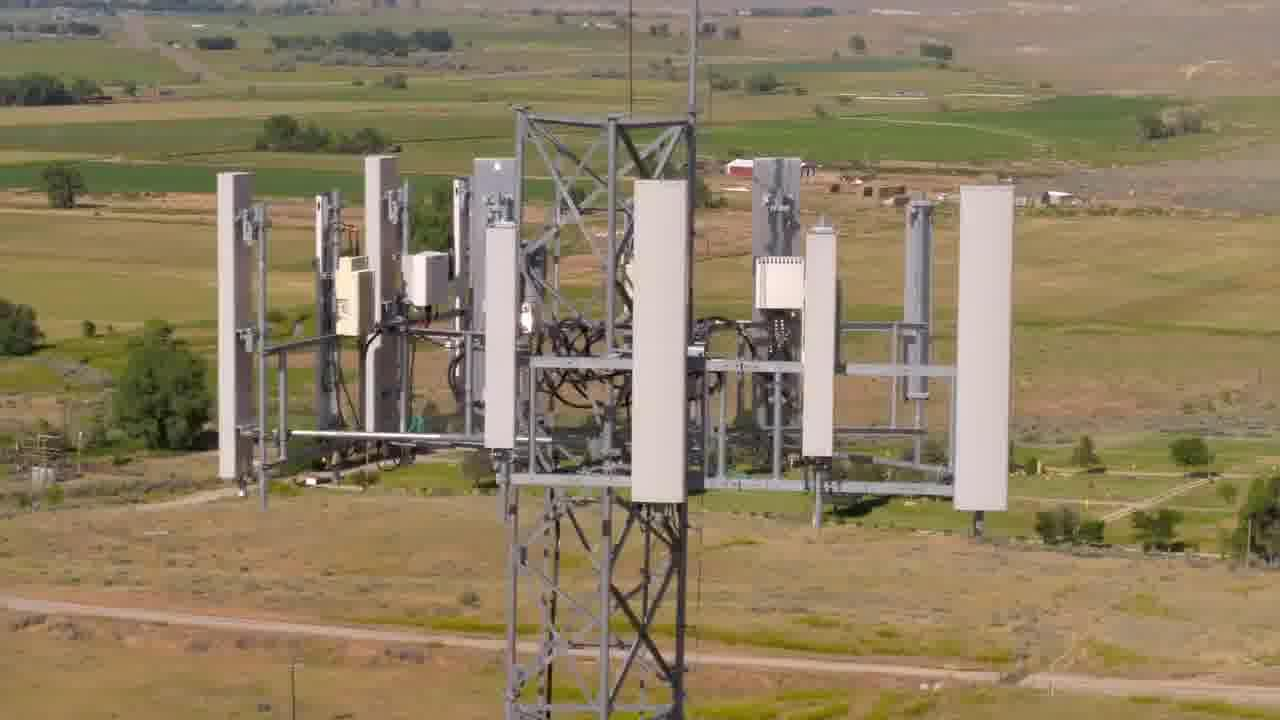antenna: (627, 179, 706, 519), (952, 177, 1021, 520), (208, 159, 272, 506), (364, 143, 415, 452), (477, 221, 530, 463), (803, 216, 848, 478), (893, 205, 944, 406)
